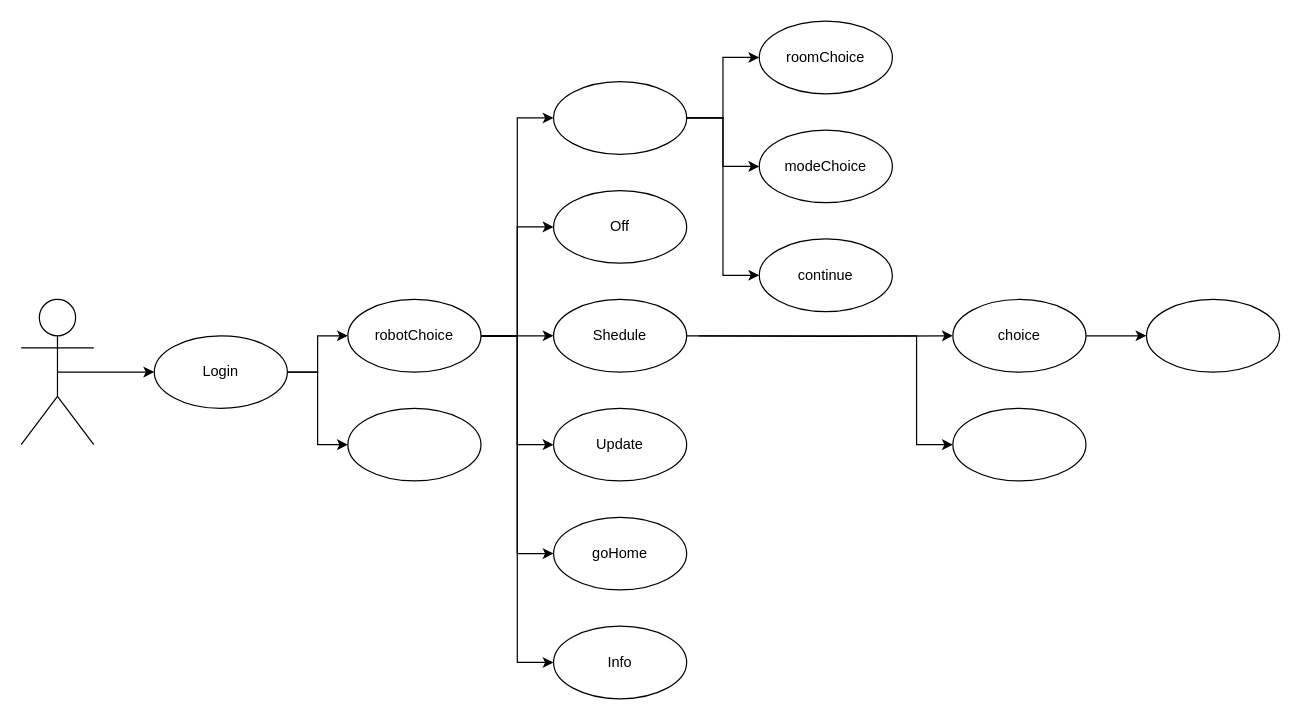
Some shapes in this 1301 by 720 pixel diagram are drawn without their labels. The centre of each missing label's shape, as x and y in pixels:
"Actor" goes at (x=57, y=371).
"addNew" goes at (x=1019, y=444).
"addRobot" goes at (x=414, y=444).
"edit" goes at (x=1212, y=335).
"Start" goes at (x=619, y=117).
